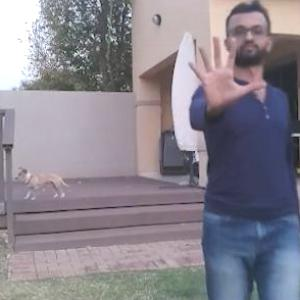follow_hand: (184, 32, 268, 118)
